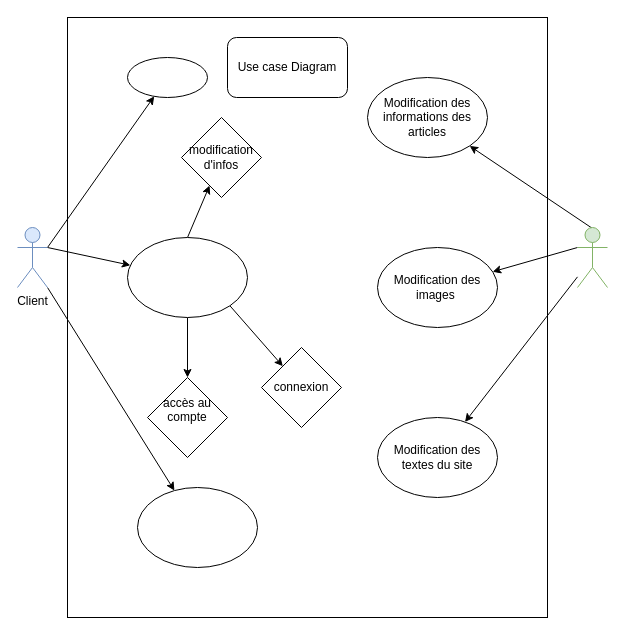
Some shapes in this 627 by 635 pixel diagram are drawn without their labels. Each missing label, with the box of its shape:
Admin: (576, 226, 608, 288)
Effectuer des achats: (136, 486, 258, 568)
Inscription et création d'un compte: (126, 236, 248, 318)
Visite du site: (126, 56, 208, 98)
